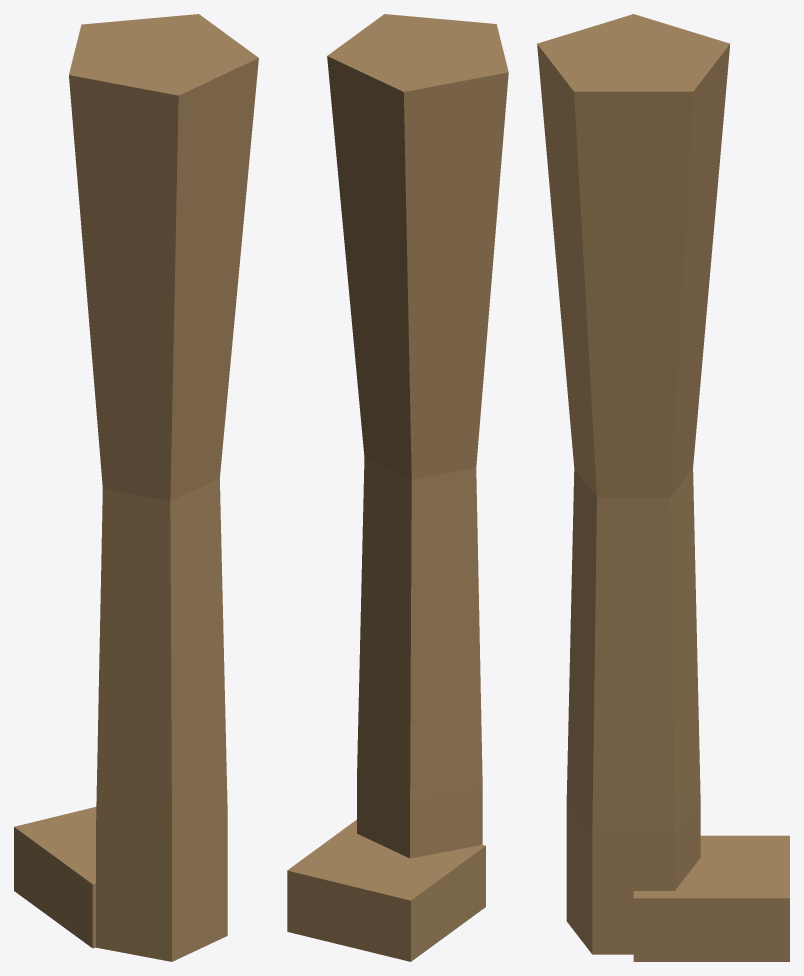
The model's file is animal_dromedary_leg.obj.
3 renders of one model, left to right at view 1: azimuth 30°, elevation 25°; view 2: azimuth 150°, elevation 25°; view 3: azimuth 270°, elevation 25°, orthographic. The views are drawn at different scales.
Parts seen in each view (by area): view 1: animal_dromedary_leg; view 2: animal_dromedary_leg; view 3: animal_dromedary_leg.
Part boxes in pixels (box(x1,y1,x2,y2)): animal_dromedary_leg: box(14, 14, 258, 961); animal_dromedary_leg: box(287, 14, 508, 961); animal_dromedary_leg: box(537, 14, 789, 961).
Size of the model in its own units: 0.1512 by 0.7935 by 0.2081.
